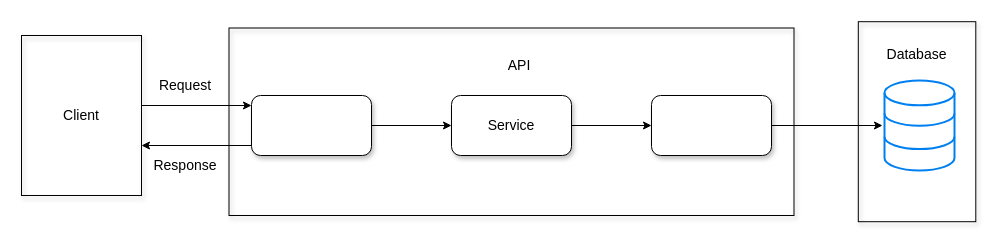
This 1000x246 diagram has some shape labels left out. The shapes that lost their labels are listed below. From the top down, each one's centre as x and y in pixels, then its label:
At [312,126]: "Controller".
At [712,126]: "Repository".
